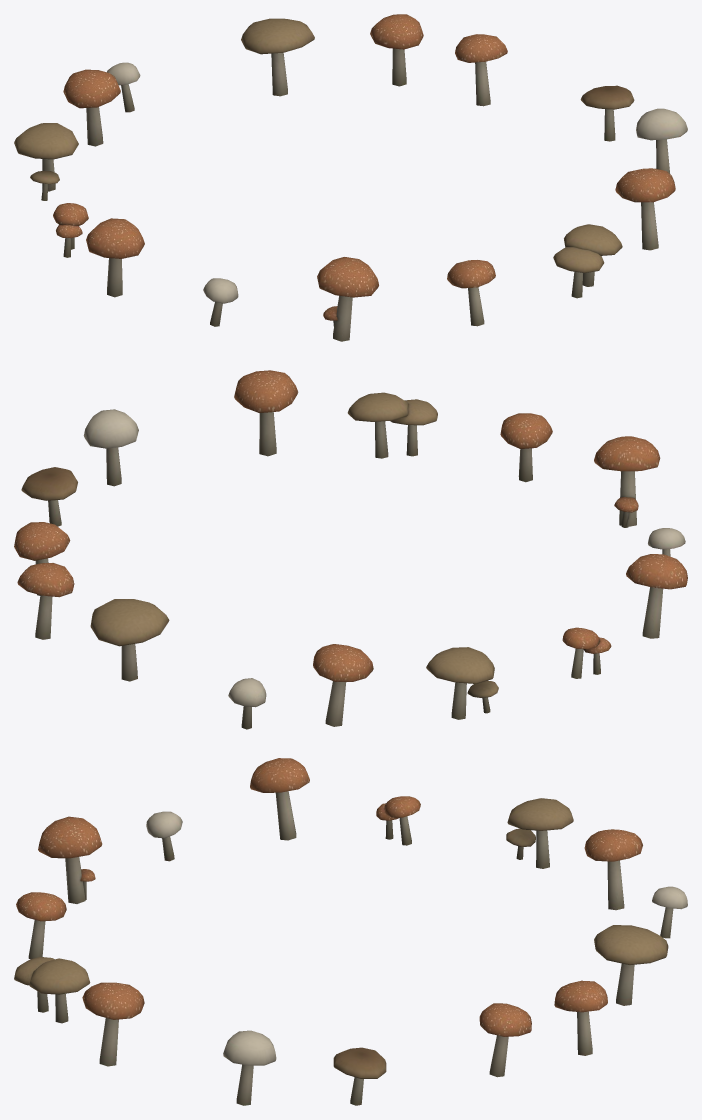
The model's file is fm_mushroom_ring.glb.
3 views of the same model, one above another, from view 1: azimuth 30°, elevation 25°; view 2: azimuth 150°, elevation 25°; view 3: azimuth 270°, elevation 25° (orthographic). The views are drawn at different scales.
Visible parts, largest first — view 1: fm_mushroom_ring; view 2: fm_mushroom_ring; view 3: fm_mushroom_ring.
Part boxes in pixels (left/top/right/bottom): fm_mushroom_ring: left=14, top=14, right=687, bottom=341; fm_mushroom_ring: left=14, top=370, right=687, bottom=729; fm_mushroom_ring: left=14, top=758, right=687, bottom=1105.
Size of the model in its own units: 1.64 by 0.2059 by 1.59.
1 material, 1 textured.
